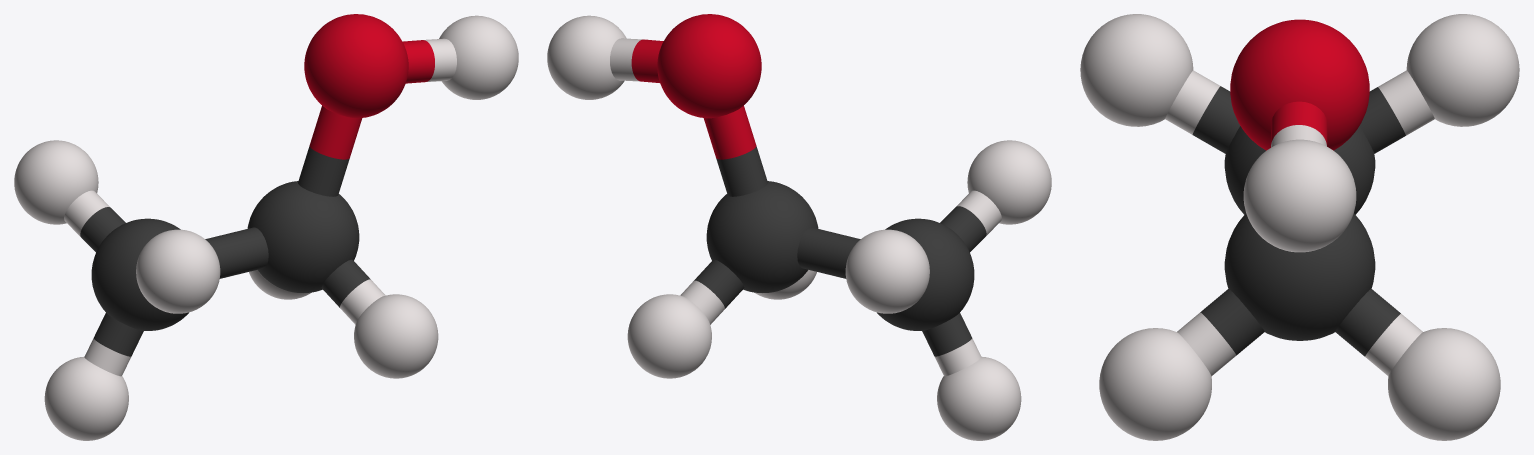
File: ycc.gltf
3 views of the same model, side by side, from view 1: azimuth 30°, elevation 25°; view 2: azimuth 150°, elevation 25°; view 3: azimuth 270°, elevation 25° (orthographic). The views are drawn at different scales.
Parts seen in each view (by area): view 1: Box003; view 2: Box003; view 3: Box003.
Part boxes in pixels (<box>): Box003: <box>14,14,518,440</box>; Box003: <box>547,14,1051,440</box>; Box003: <box>1080,14,1519,440</box>.
Size of the model in its own units: 37.98 by 27.63 by 23.32.
3 materials, 3 textured.
